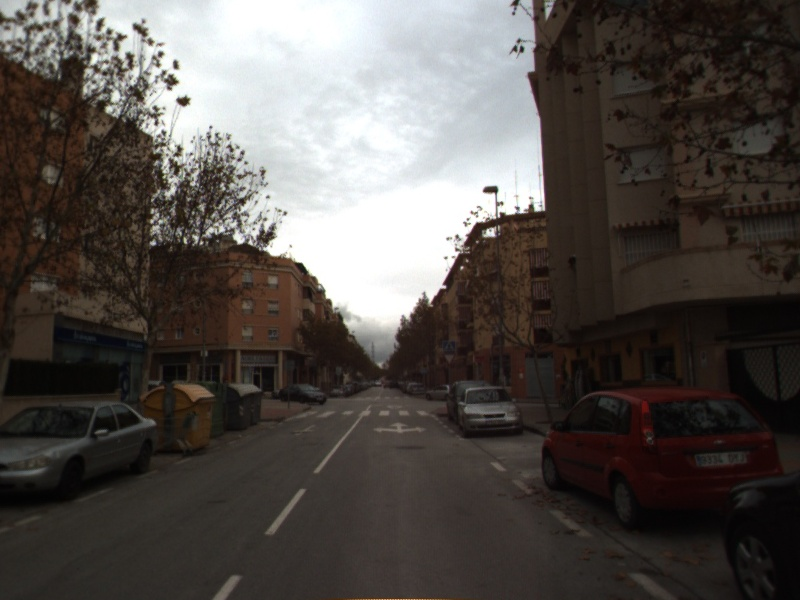STRAIGHT_LEFT_RIGHT: (371, 419, 429, 436)
